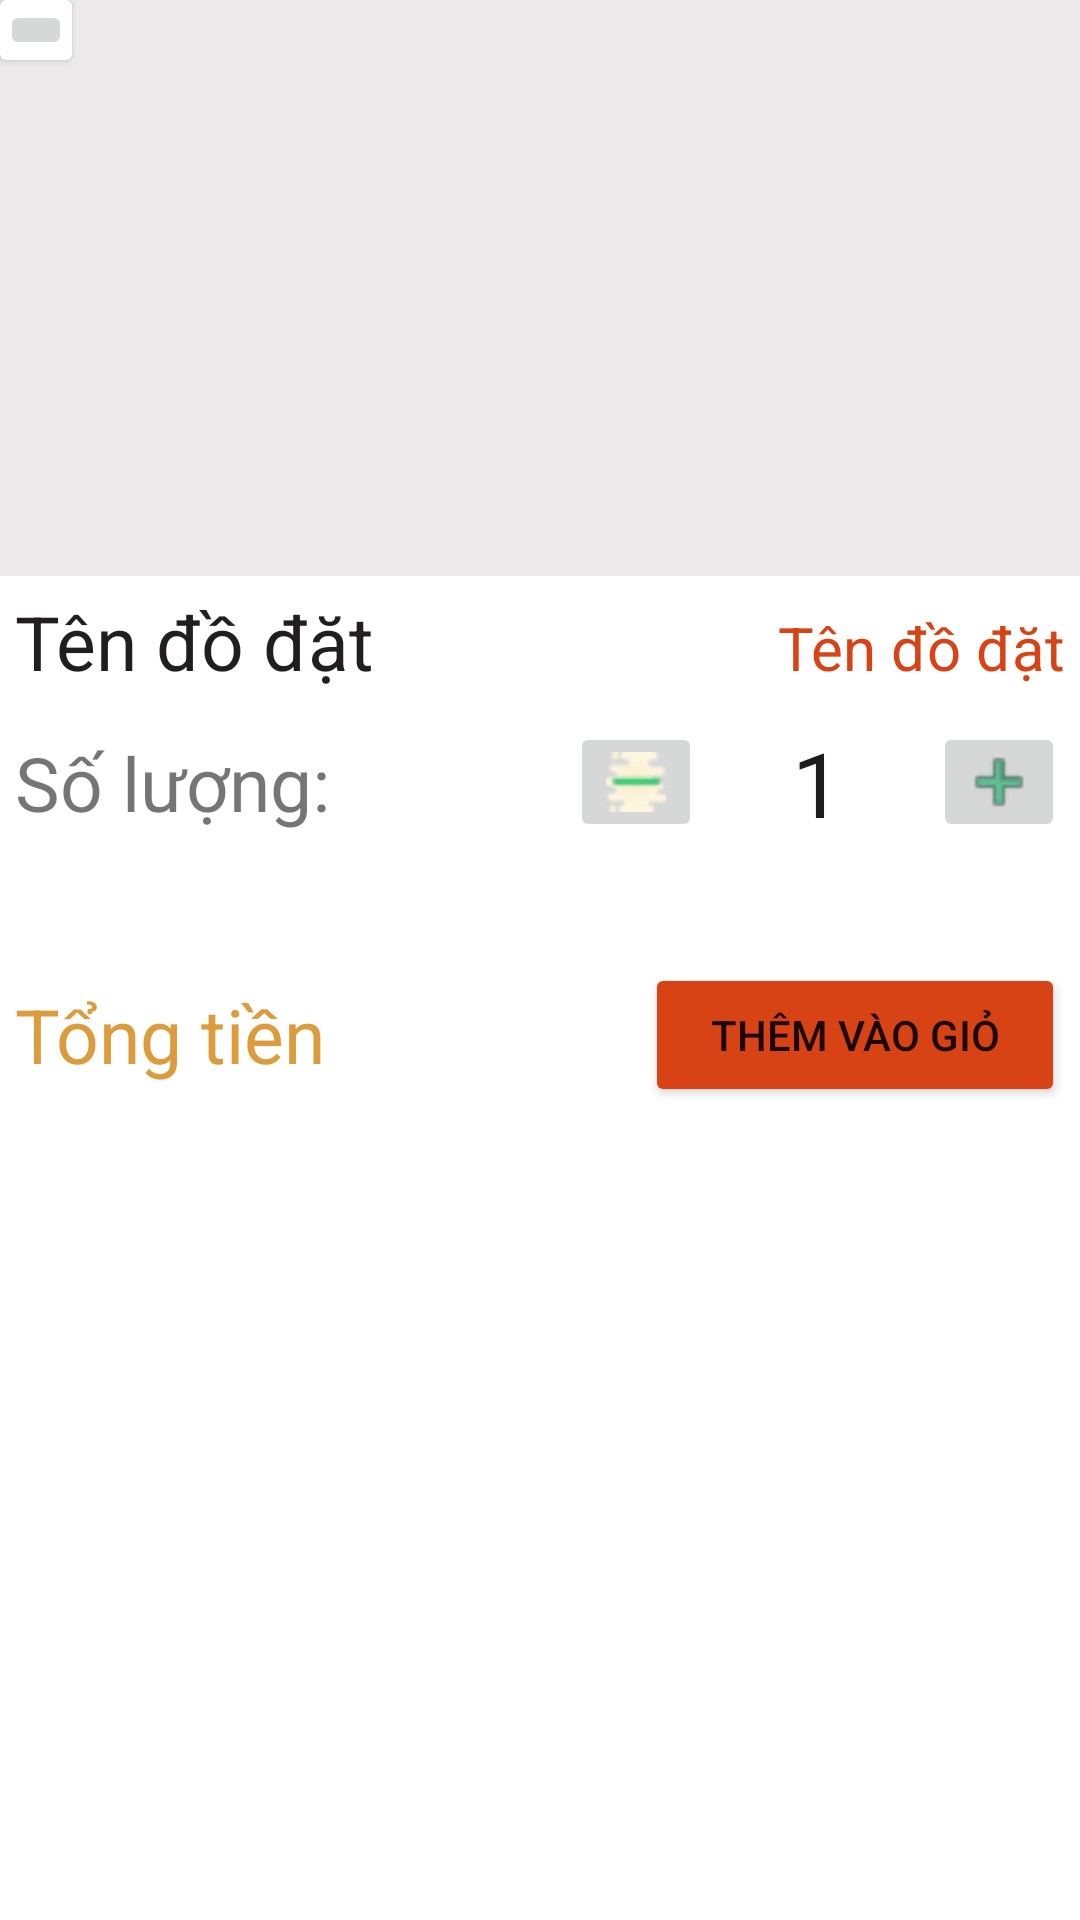

Where to tap for icons on this 1080px x 1920px app screen, as (x,y):
minus: (636,782)
plus: (999,782)
